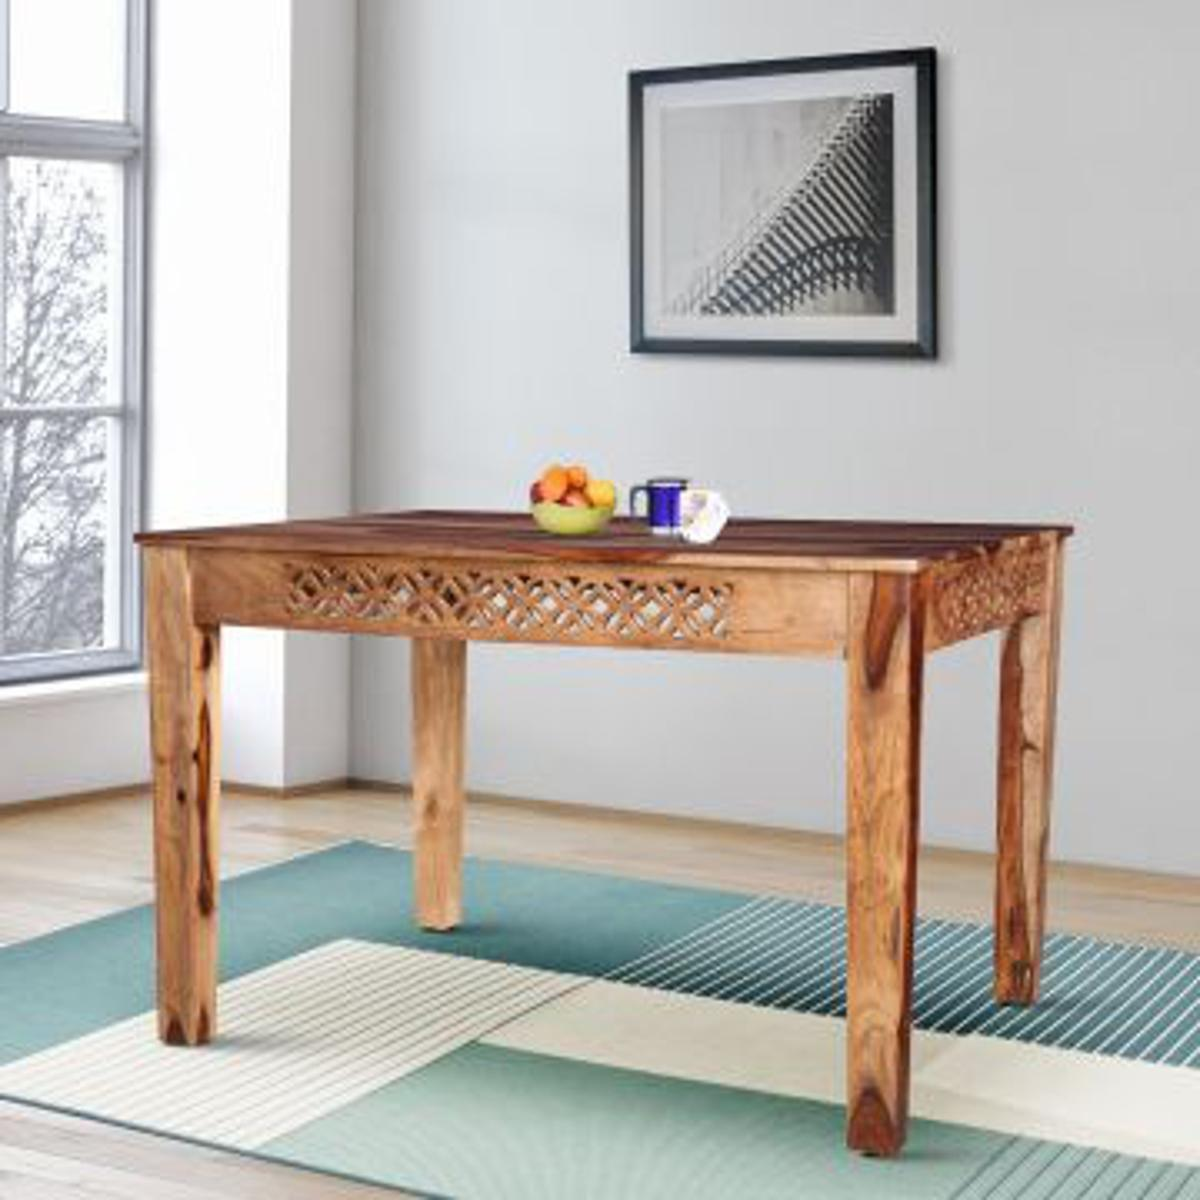Table: (73, 492, 1127, 1164)
